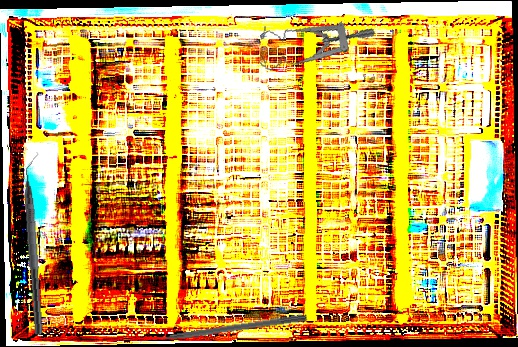Chopper: (18, 151, 56, 336)
Pusher: (139, 312, 308, 345)
Speculum: (252, 3, 377, 92)
